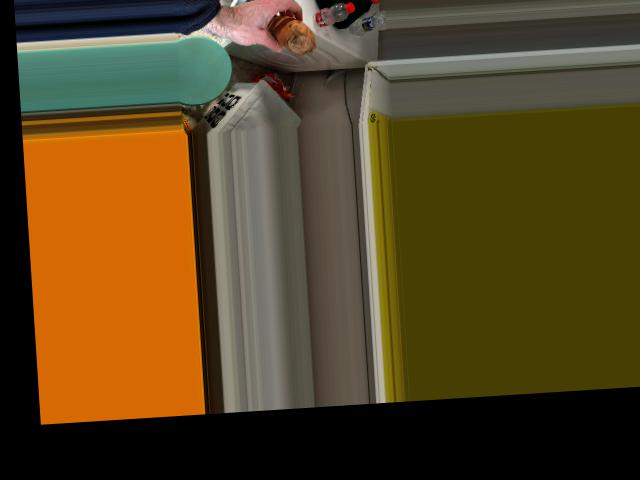sweet_potato: (266, 14, 317, 55)
